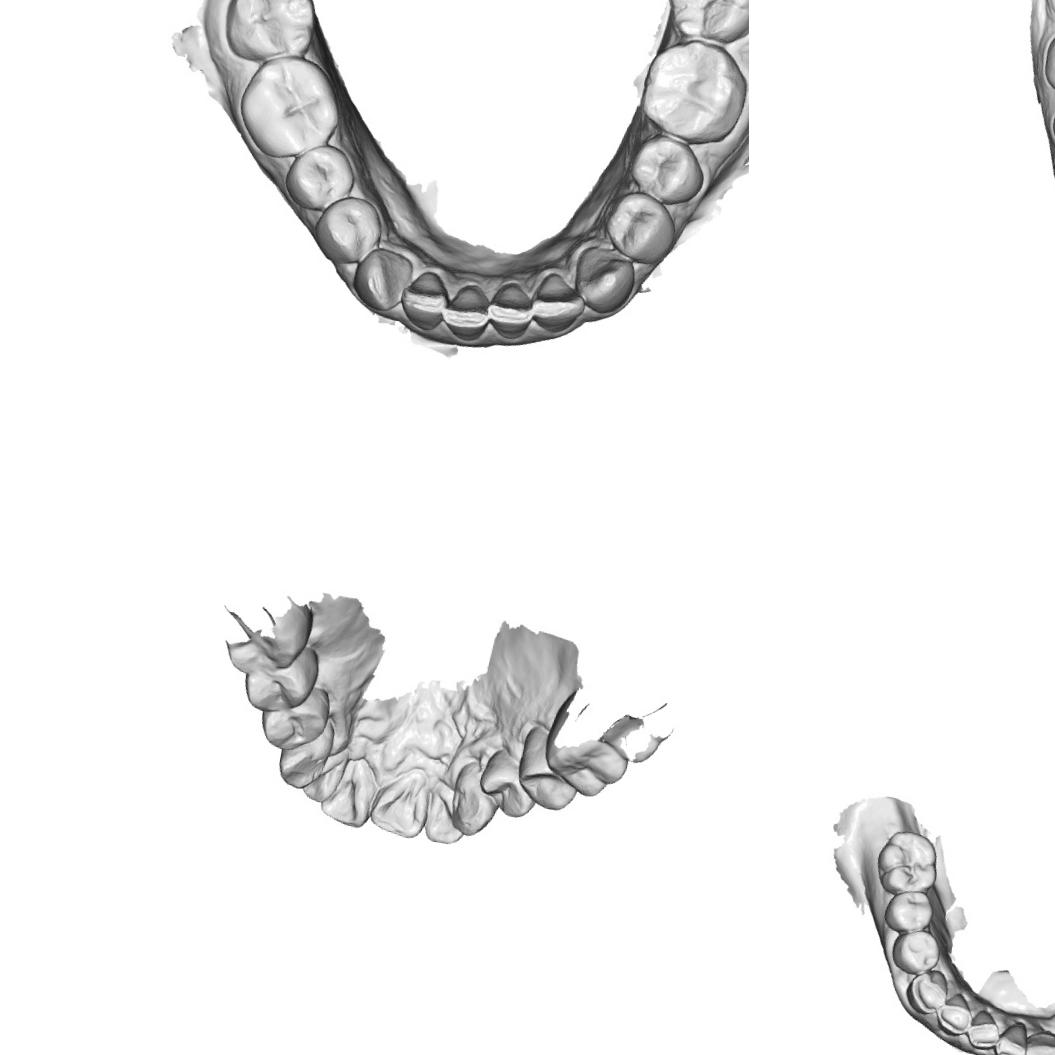canine: (442, 756, 507, 841), (272, 712, 336, 793), (568, 240, 636, 316), (348, 242, 413, 316), (900, 963, 951, 1020), (1021, 1025, 1055, 1055)
incisor: (365, 764, 434, 842), (317, 751, 382, 830), (530, 266, 591, 336), (396, 263, 450, 334), (436, 277, 493, 343), (484, 277, 538, 343), (420, 788, 470, 848), (300, 750, 350, 805), (932, 987, 977, 1040), (962, 1006, 1004, 1054), (991, 1015, 1031, 1055)
molar: (230, 48, 348, 168), (634, 34, 749, 149), (219, 0, 323, 68), (870, 824, 944, 901), (658, 0, 749, 52), (1037, 16, 1055, 103)
premolar: (510, 722, 588, 816), (239, 637, 323, 720), (310, 189, 391, 274), (599, 188, 682, 268), (623, 132, 708, 210), (280, 138, 358, 218), (255, 676, 333, 756), (473, 744, 544, 822), (887, 924, 944, 979), (879, 884, 936, 937)
